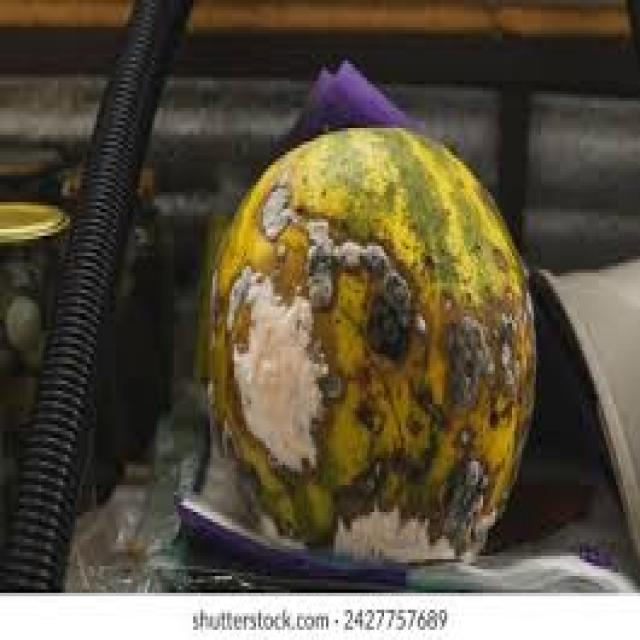Watermelon: (211, 143, 525, 574)
